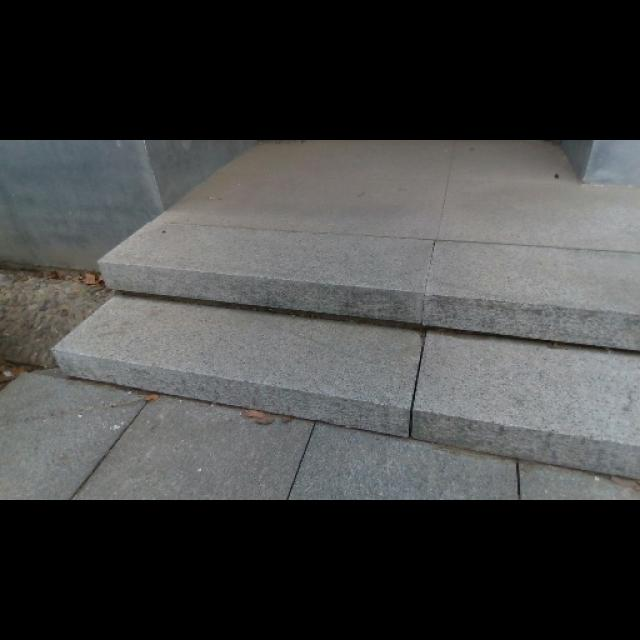Stairs: (1, 138, 639, 498)
